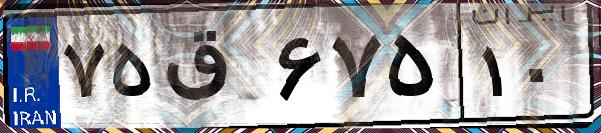0: (525, 38, 570, 115)
1: (475, 38, 525, 113)
5: (385, 28, 445, 110), (110, 28, 158, 98)
6: (270, 28, 330, 110)
7: (330, 28, 385, 110), (57, 26, 110, 100)
ق: (158, 20, 270, 120)
